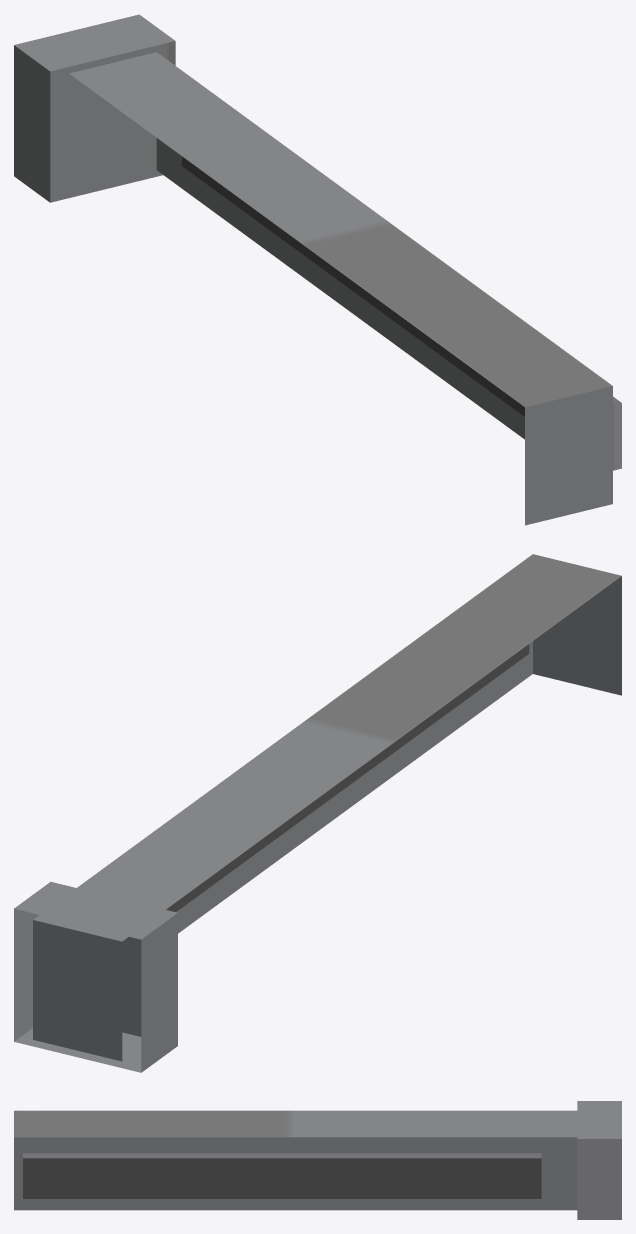
3 views of the same model, one above another, from view 1: azimuth 30°, elevation 25°; view 2: azimuth 150°, elevation 25°; view 3: azimuth 270°, elevation 25° (orthographic). The views are drawn at different scales.
Bounding box in the file's own units: 0.05 × 0.05 × 0.34.
